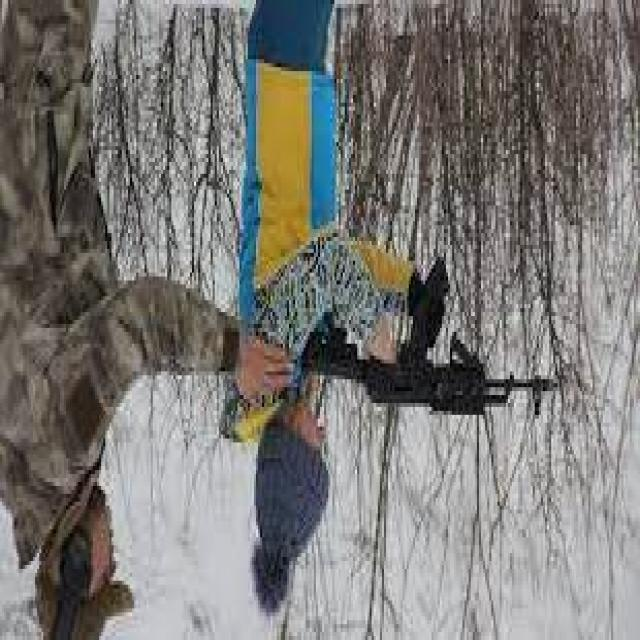weapon: (300, 258, 558, 418)
